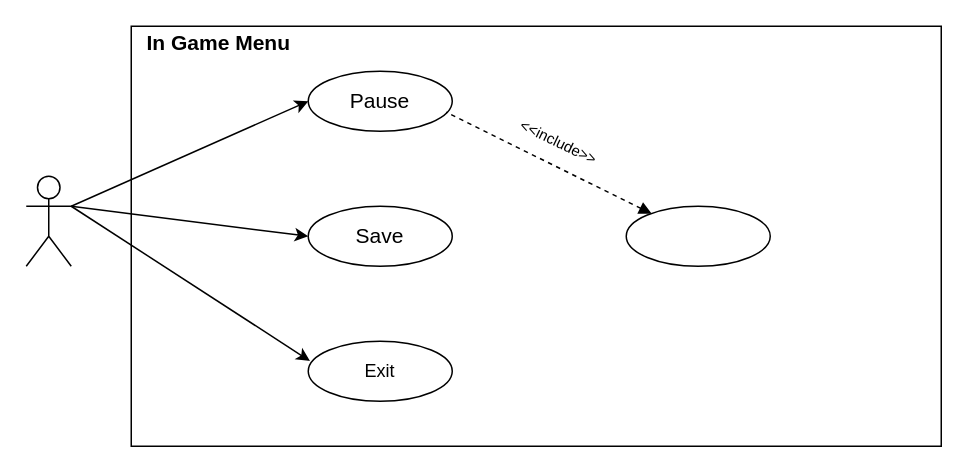
The diagram is 968 pixels wide and 473 high, and some of its shapes have lost their labels. Here are the shapes that lost their labels. From the top down, the box of each, then its label:
(25, 175, 71, 266): Actor
(625, 205, 770, 266): Resume
